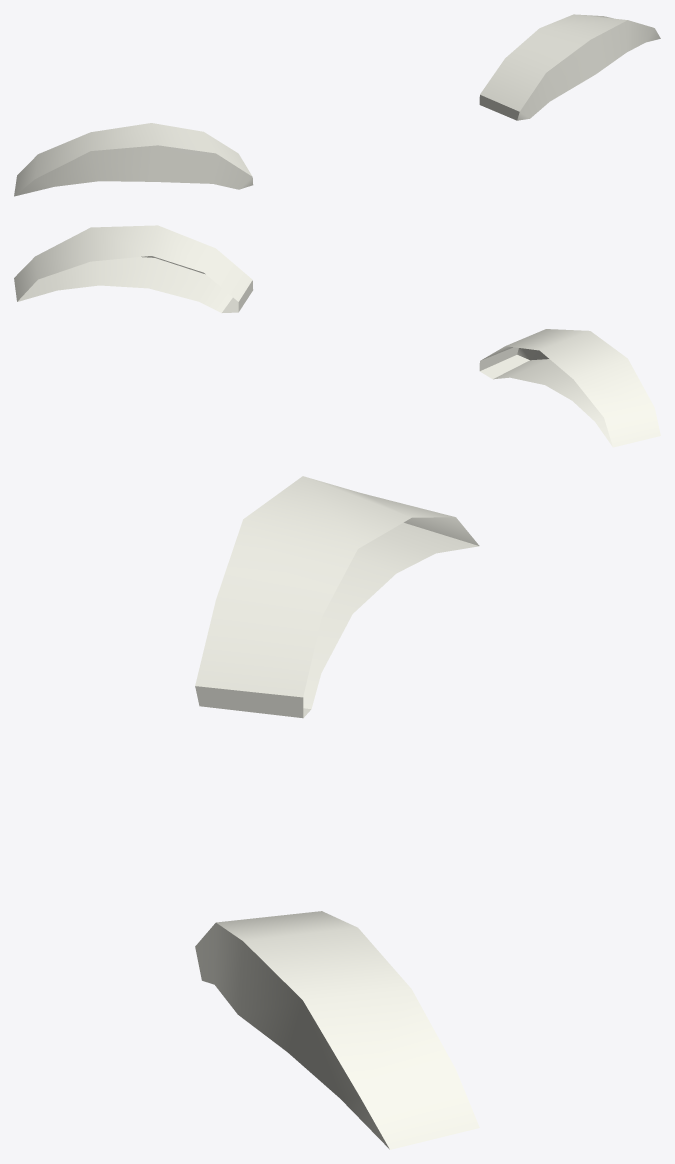
Rendered from Brow_White_1.fbx.
The picture shows the model from 3 angles, top to bottom: view 1: azimuth 30°, elevation 25°; view 2: azimuth 150°, elevation 25°; view 3: azimuth 270°, elevation 25°; orthographic projection. The views are drawn at different scales.
Parts seen in each view (by area): view 1: Brow_White_1; view 2: Brow_White_1; view 3: Brow_White_1.
Boxes of the visible parts, <box> form: Brow_White_1: <box>14,14,660,196</box>; Brow_White_1: <box>14,225,660,447</box>; Brow_White_1: <box>195,476,479,1149</box>.
Size of the model in its own units: 33.06 by 2.71 by 6.3.
